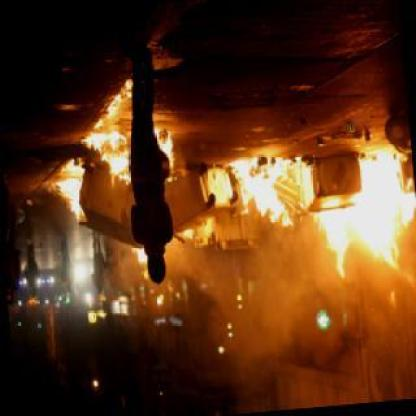Fire: (36, 76, 416, 322)
